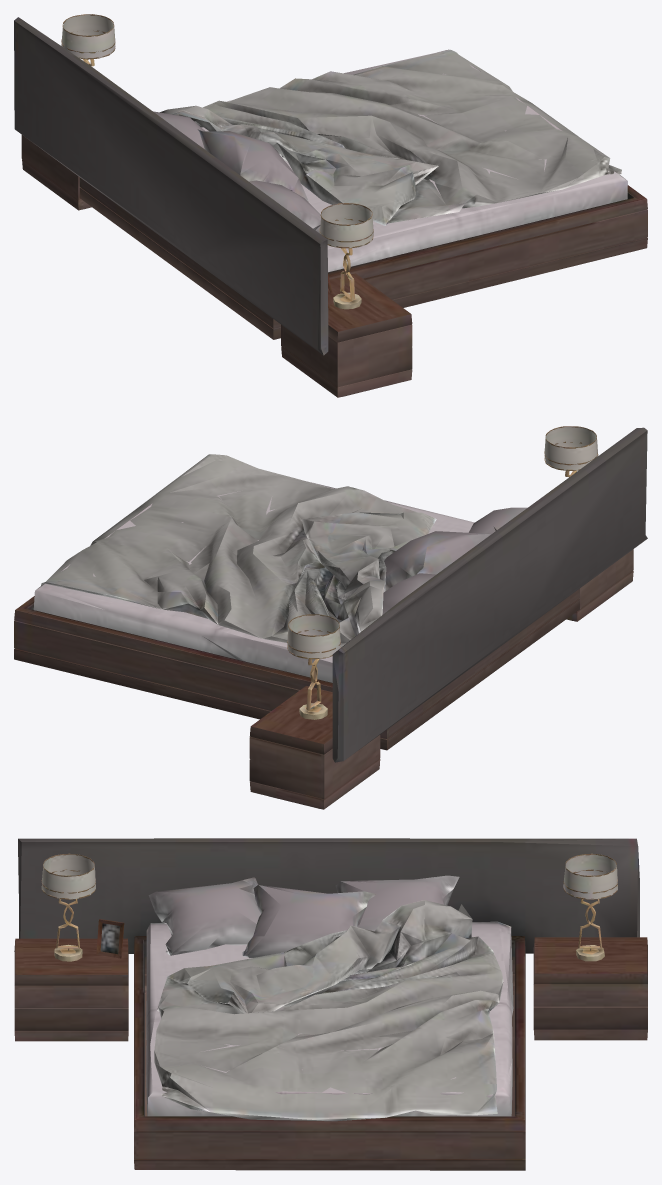
The model's file is Bed0004.obj.
3 views of the same model, one above another, from view 1: azimuth 30°, elevation 25°; view 2: azimuth 150°, elevation 25°; view 3: azimuth 270°, elevation 25° (orthographic).
Bounding box in the file's own units: 2.14 × 0.865 × 2.97.
1 material, 1 textured.
